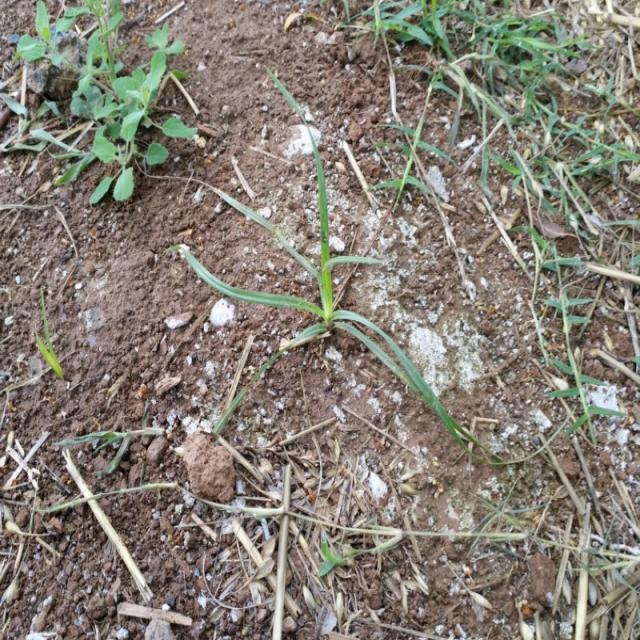sedge: (190, 124, 478, 444)
